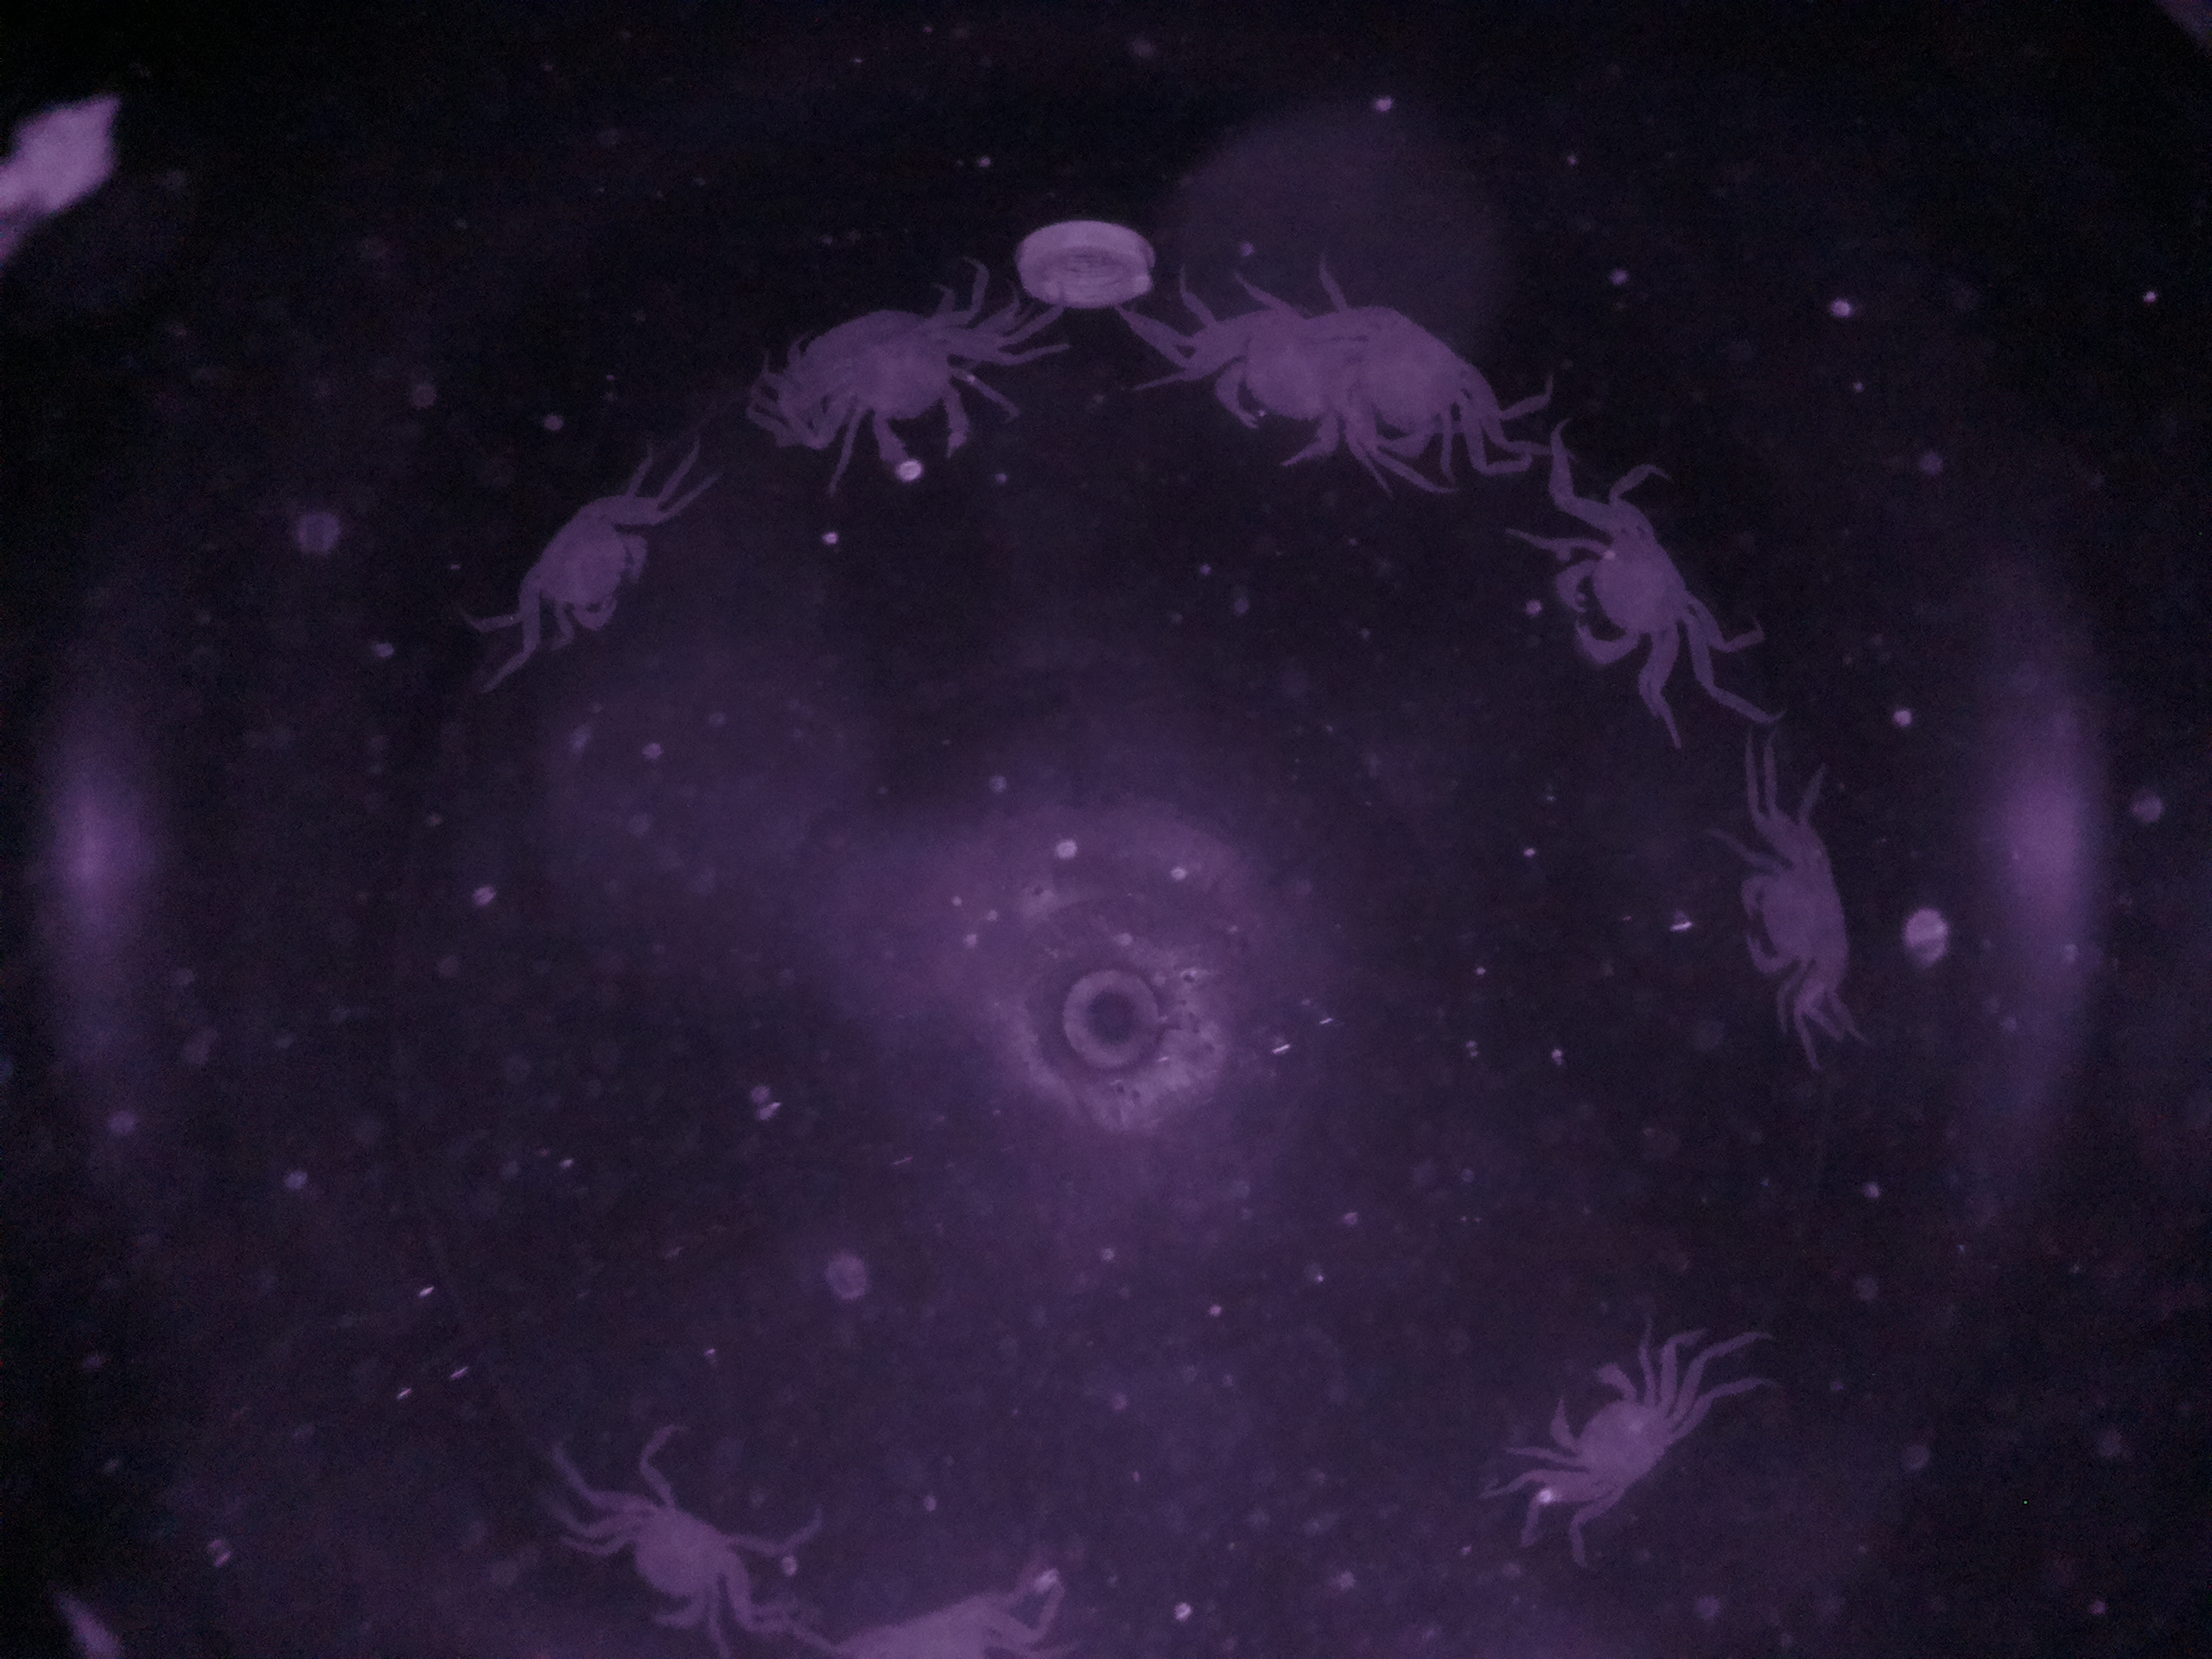Crab: (1541, 483, 1719, 708), (1712, 809, 1874, 1035), (1529, 1328, 1700, 1532), (496, 472, 672, 647), (582, 1464, 754, 1638)
